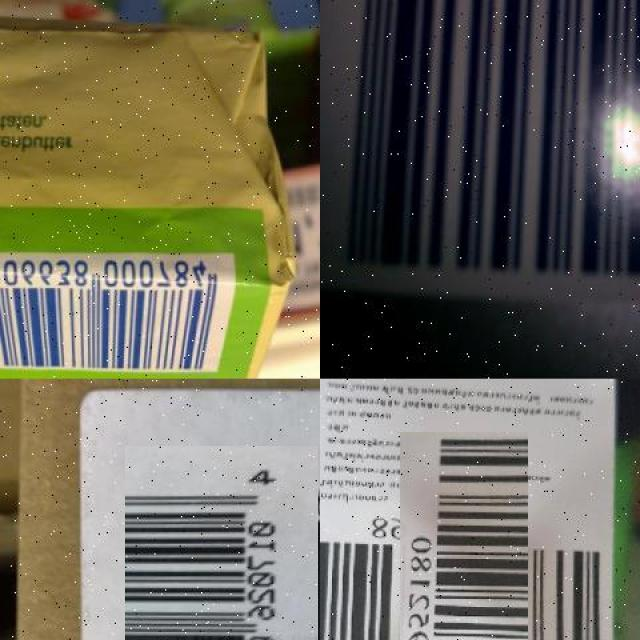Barcode: (320, 0, 640, 311), (124, 447, 319, 640), (359, 472, 568, 640), (0, 239, 237, 379)
